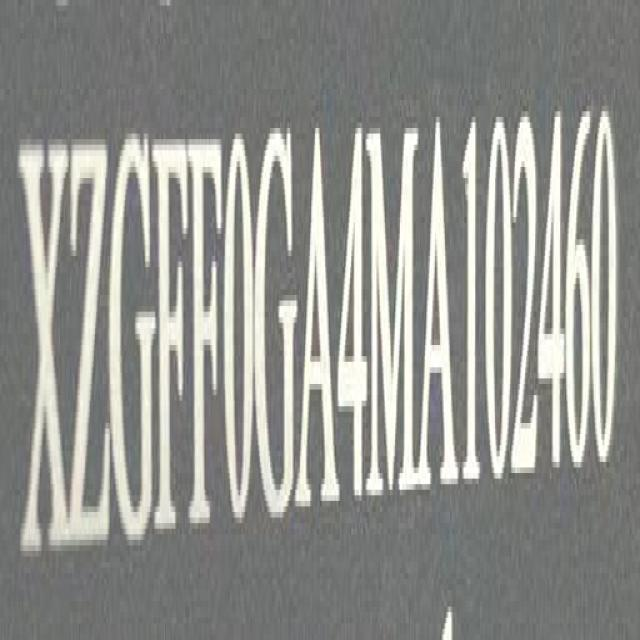0: (224, 120, 256, 538), (480, 108, 509, 494), (594, 103, 624, 472)
1: (462, 105, 481, 495)
2: (510, 107, 540, 489)
4: (336, 112, 372, 519), (539, 105, 569, 480)
6: (567, 104, 595, 475)
A: (419, 111, 459, 503), (301, 116, 337, 528)
F: (155, 124, 191, 551), (192, 121, 227, 547)
G: (109, 124, 152, 550), (256, 126, 296, 519)
M: (372, 108, 420, 511)
X: (24, 127, 72, 568)
Z: (69, 132, 111, 556)
